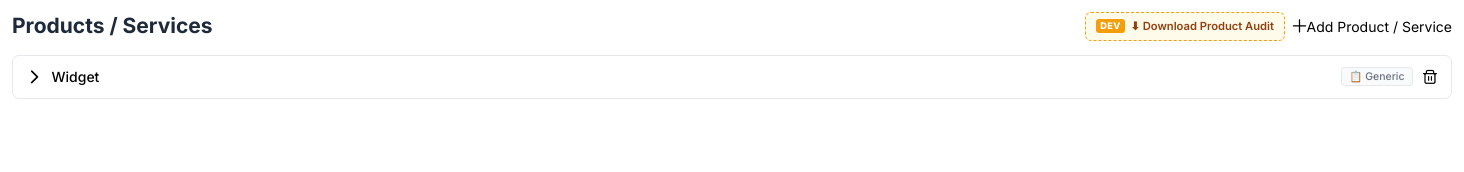
ProductsView — inline rename (Bug 1 regression) › double-clicking the product name shows a rename input pre-filled with the current name
// The name span is inside the product card
Double-click the text with class "font-medium" showing "Widget" at {"x": 75, "y": 77}, box [52, 68, 99, 85]
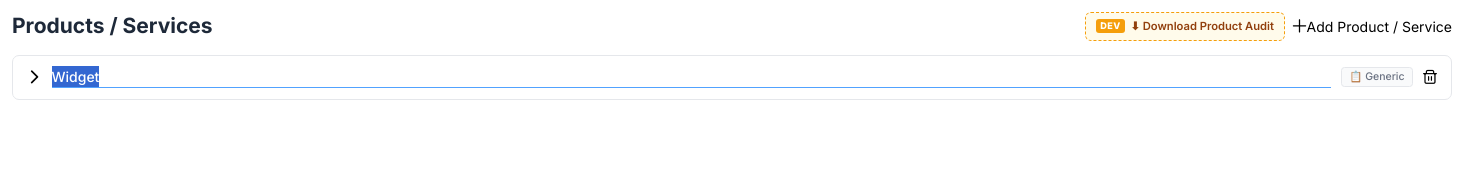
Check: the field with class "font-medium" holds "Widget", box [52, 66, 1331, 88]
